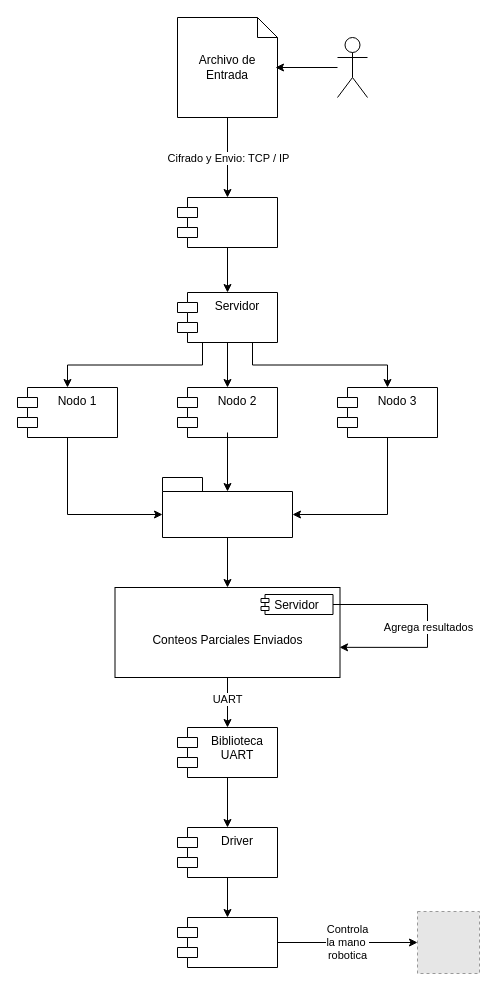
This 497x991 diagram has some shape labels left out. Grey dashed boxes stand in for pictures. Each missing label, with the centre of its shape:
"Actor" belongs at point 352,67.
"Arduino" belongs at point 227,942.
"Cliente" belongs at point 227,222.
"procesamiento" belongs at point 227,507.
